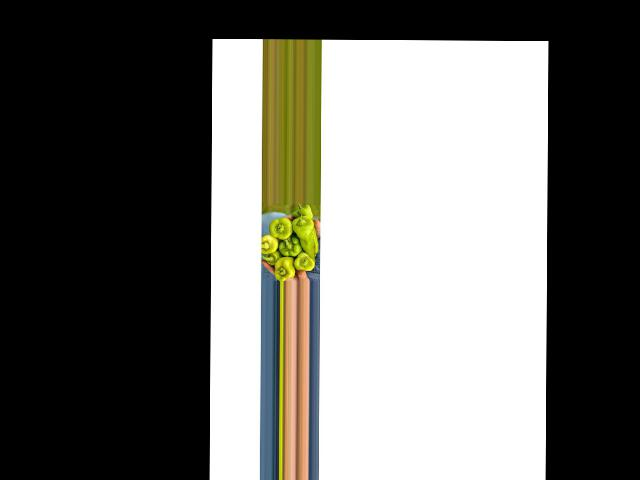bell_pepper: (272, 255, 294, 280)
